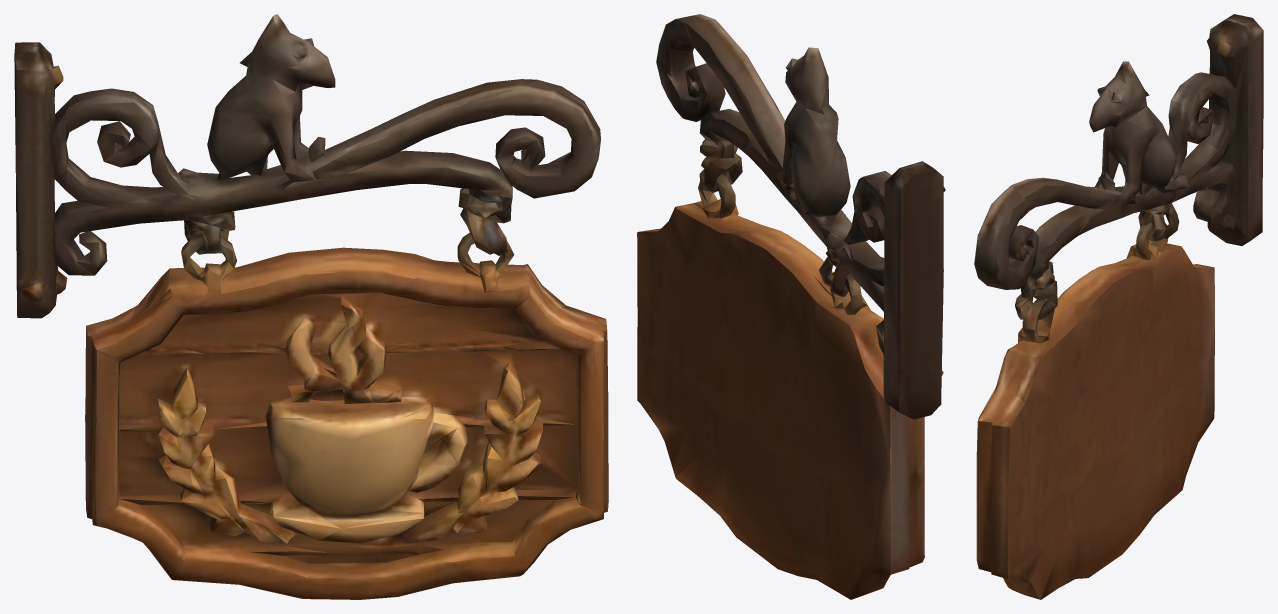
Rendered from wall20.glb.
3 renders of one model, left to right at view 1: azimuth 30°, elevation 25°; view 2: azimuth 150°, elevation 25°; view 3: azimuth 270°, elevation 25°, orthographic. The views are drawn at different scales.
Size of the model in its own units: 0.2277 by 0.2711 by 0.1493.
Materials: 1 (1 with a texture image).
